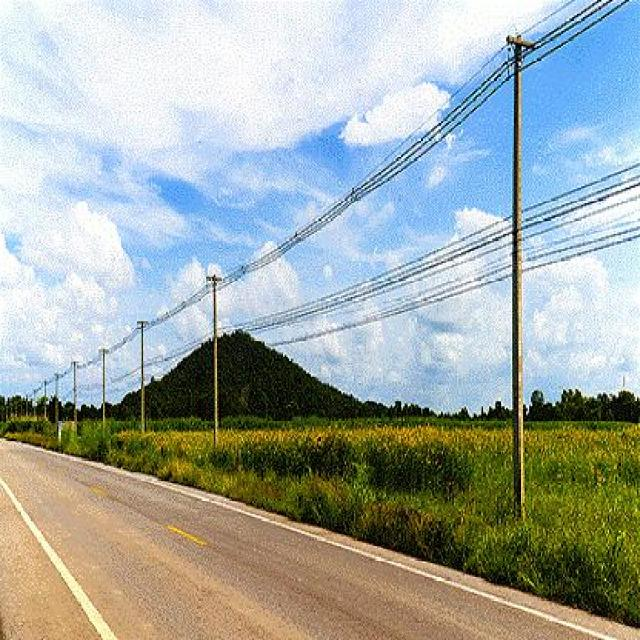pole: (478, 25, 552, 517), (198, 263, 238, 432)
